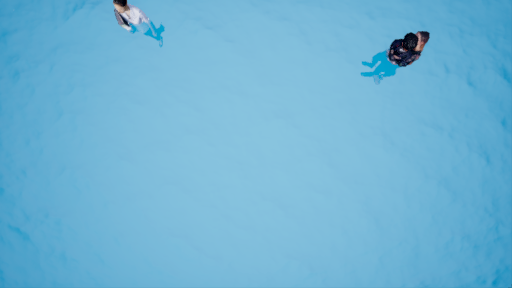person: (353, 19, 434, 87), (100, 1, 175, 48)
